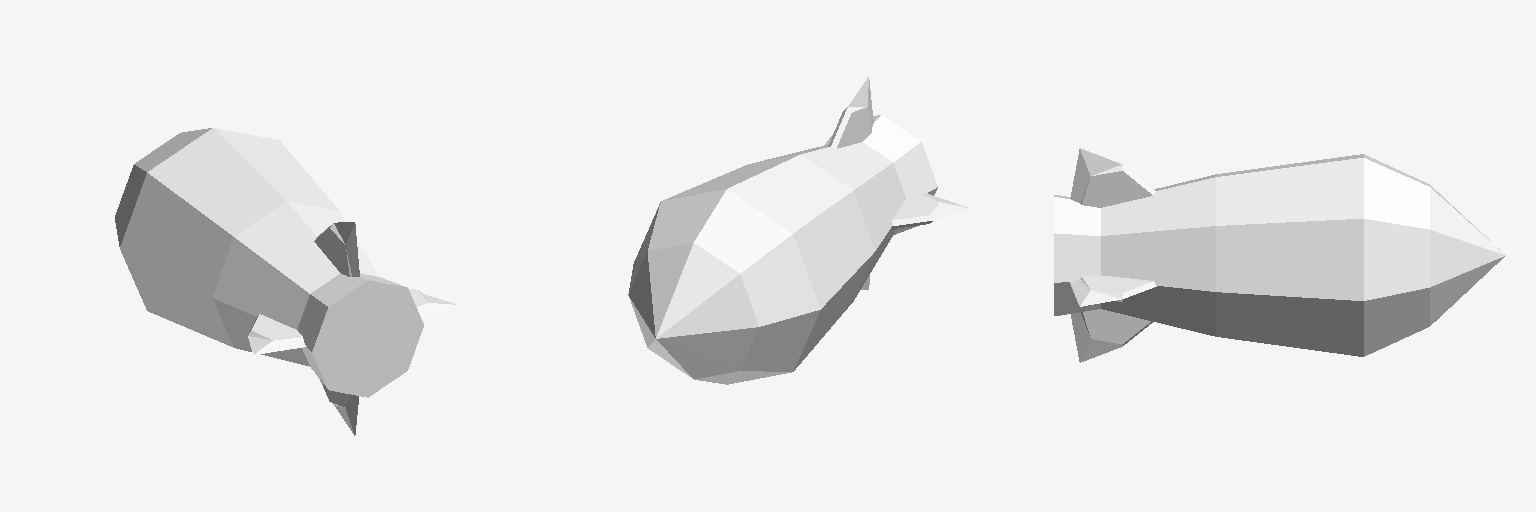
File: missile2.obj
3 renders of one model, left to right at view 1: azimuth 30°, elevation 25°; view 2: azimuth 150°, elevation 25°; view 3: azimuth 270°, elevation 25°, orthographic.
Parts seen in each view (by area): view 1: Mesh; view 2: Mesh; view 3: Mesh.
Part boxes in pixels (x1,y1,x2,y2): Mesh: (115,128,457,435); Mesh: (628,76,969,384); Mesh: (1054,148,1505,362).
Bounding box in the file's own units: 0.9659 × 0.9659 × 1.84.